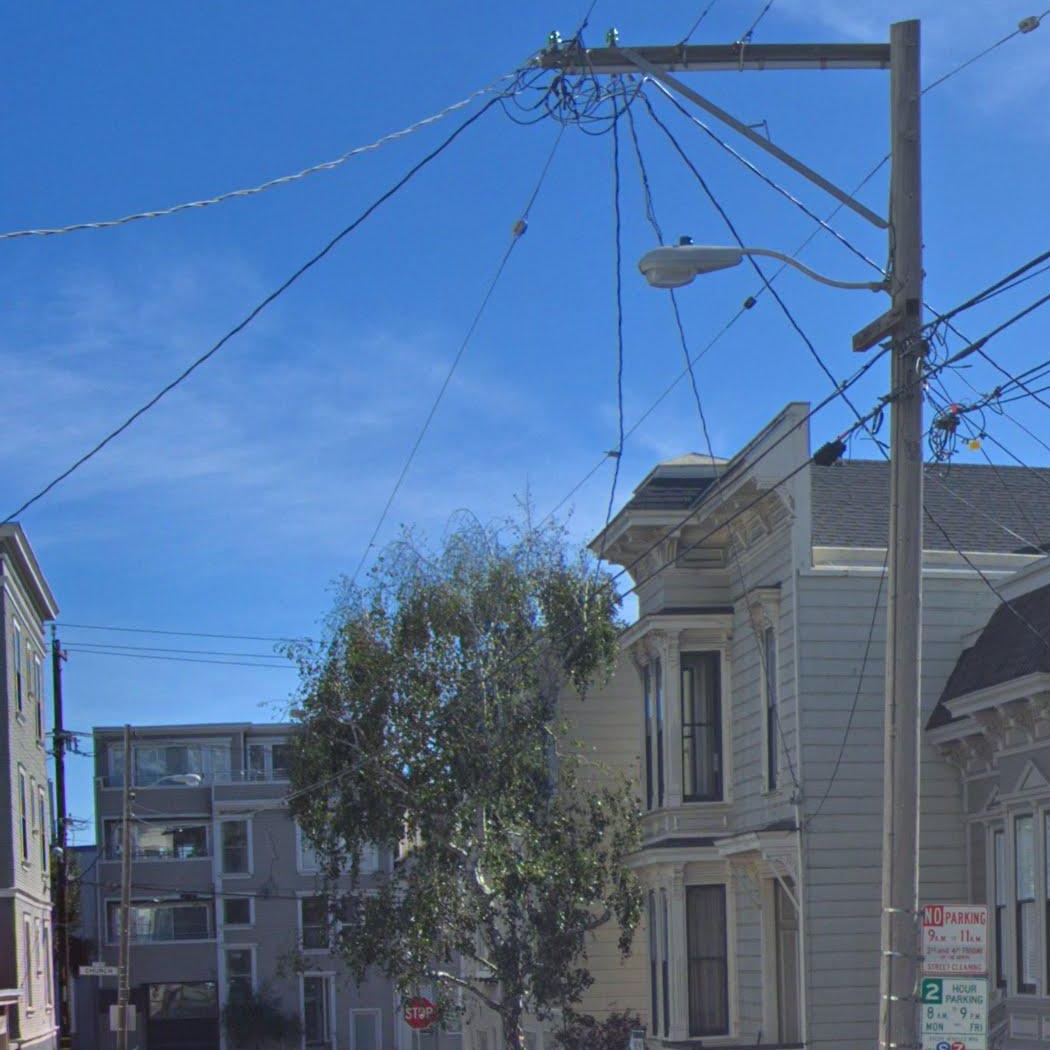2 Hour Parking: (917, 974, 990, 1048)
No Parking: (919, 902, 989, 974)
